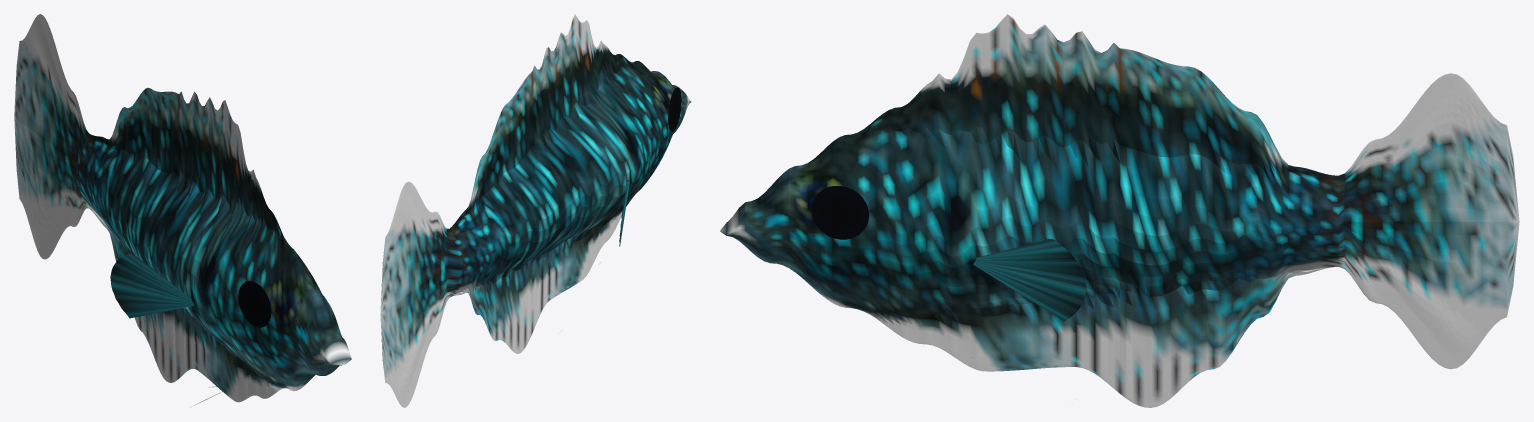
Rendered from pygmy_baked.glb.
3 views of the same model, side by side, from view 1: azimuth 30°, elevation 25°; view 2: azimuth 150°, elevation 25°; view 3: azimuth 270°, elevation 25° (orthographic). The views are drawn at different scales.
Visible parts, largest first — view 1: fin (×2), body, eye; view 2: fin, body, eye; view 3: fin (×2), body, eye.
Part boxes in pixels (x1,y1,x2,y2): fin (×2): (14,14,284,402); body: (76,133,351,391); eye: (238,281,271,327); fin: (380,14,629,407); body: (449,60,691,297); eye: (668,87,681,131); fin (×2): (864,14,1519,407); body: (720,125,1338,323); eye: (811,186,868,239).
Size of the model in its own units: 0.00871 by 0.0164 by 0.03.
